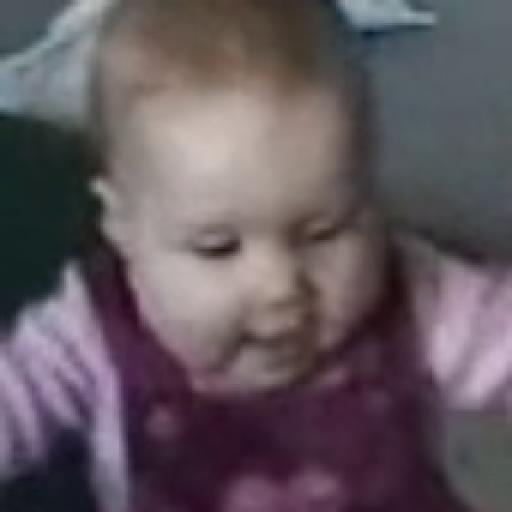Autism: (72, 10, 502, 420)
